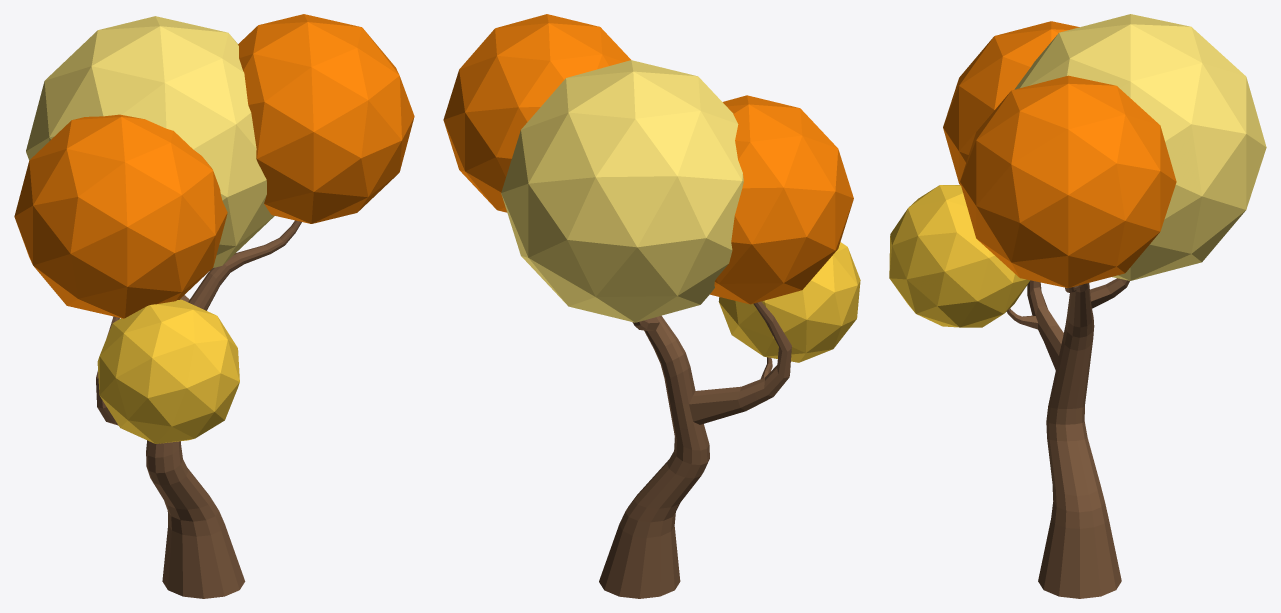
Rendered from Isl_13_Tree_1.fbx.
3 views of the same model, side by side, from view 1: azimuth 30°, elevation 25°; view 2: azimuth 150°, elevation 25°; view 3: azimuth 270°, elevation 25° (orthographic). The views are drawn at different scales.
Visible parts, largest first — view 1: Isl_13_Tree_1; view 2: Isl_13_Tree_1; view 3: Isl_13_Tree_1.
Part boxes in pixels (left/top/right/bottom): Isl_13_Tree_1: left=14, top=14, right=414, bottom=598; Isl_13_Tree_1: left=443, top=14, right=860, bottom=598; Isl_13_Tree_1: left=889, top=14, right=1266, bottom=598.
Size of the model in its own units: 765 by 666 by 1066.
1 material, 1 textured.
